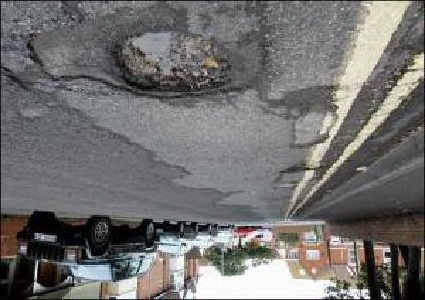pothole: (111, 28, 239, 98)
